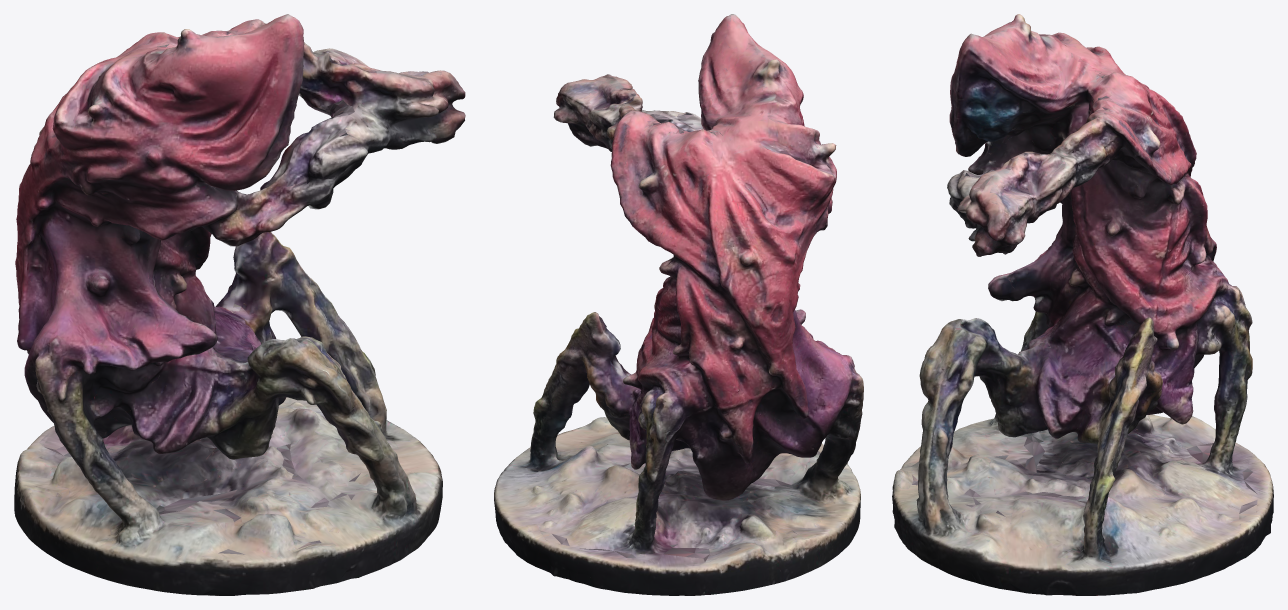
File: GeminateRanged.glb
The picture shows the model from 3 angles, left to right: view 1: azimuth 30°, elevation 25°; view 2: azimuth 150°, elevation 25°; view 3: azimuth 270°, elevation 25°; orthographic projection. The views are drawn at different scales.
Parts seen in each view (by area): view 1: geminate_ranged; view 2: geminate_ranged; view 3: geminate_ranged.
Boxes of the visible parts, x1,y1,x2,y2 form: geminate_ranged: (14, 14, 465, 595); geminate_ranged: (494, 14, 863, 595); geminate_ranged: (892, 14, 1273, 595).
Size of the model in its own units: 7.8 by 10.25 by 7.37.
1 material, 1 textured.
